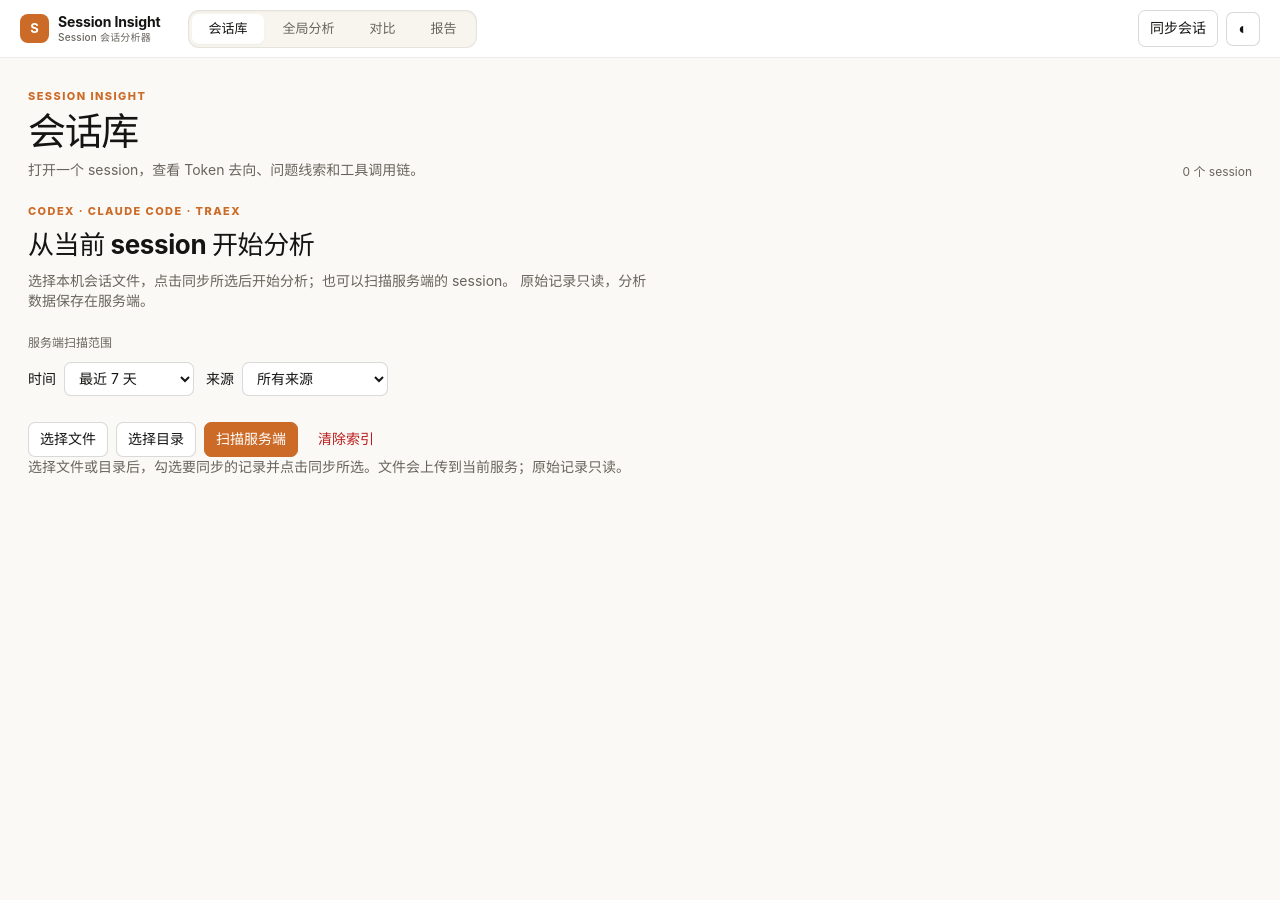
Test: analysis workflow › scans the selected range and retains skipped-file feedback after the first import
Expected: the heading "从当前 session 开始分析" is shown, [28,229,314,260]
Select "最近 1 天" in the dropdown named "扫描时间范围" at (129, 379), box [64,362,194,396]
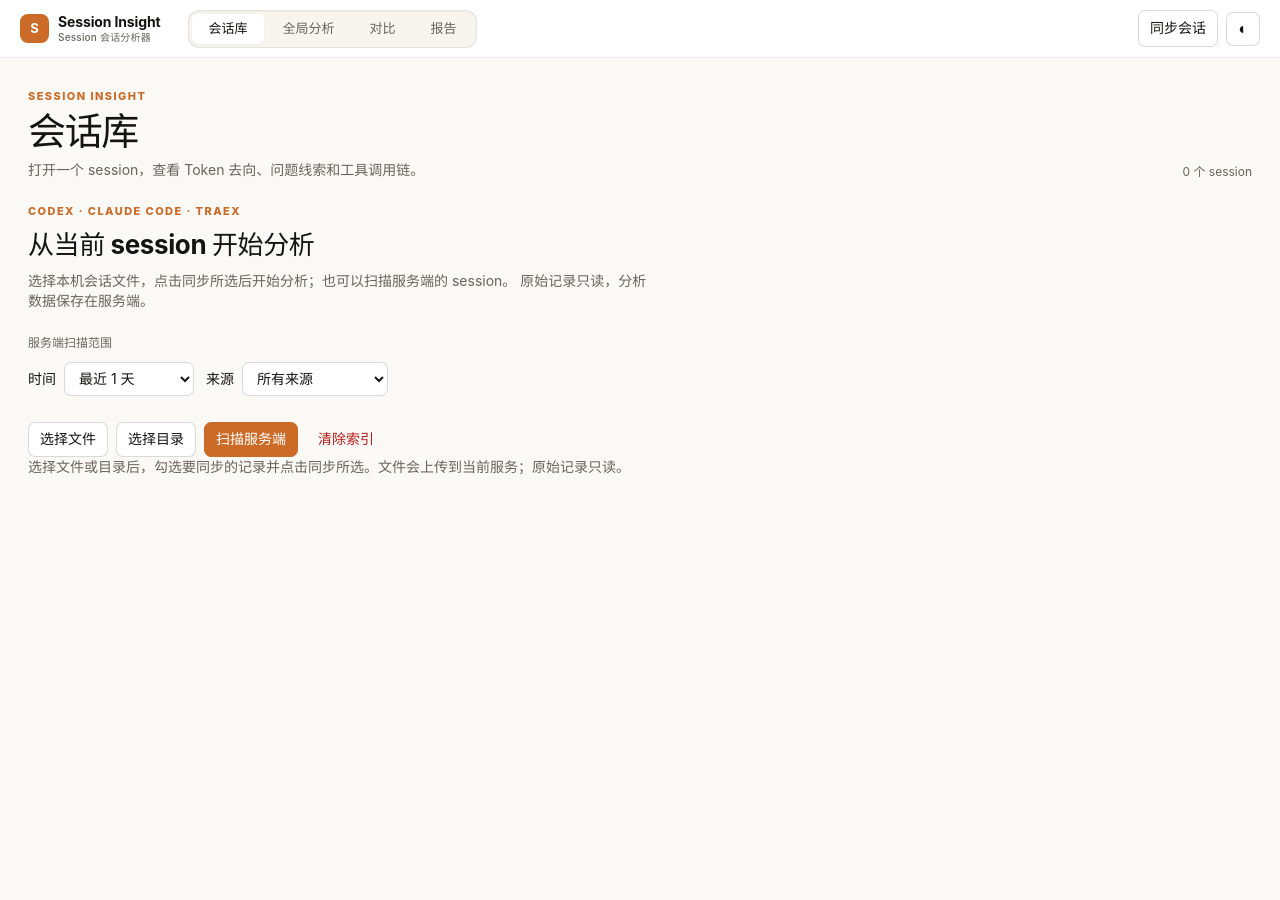
Select "仅 Codex" in the dropdown named "扫描来源" at (315, 379), box [242,362,388,396]
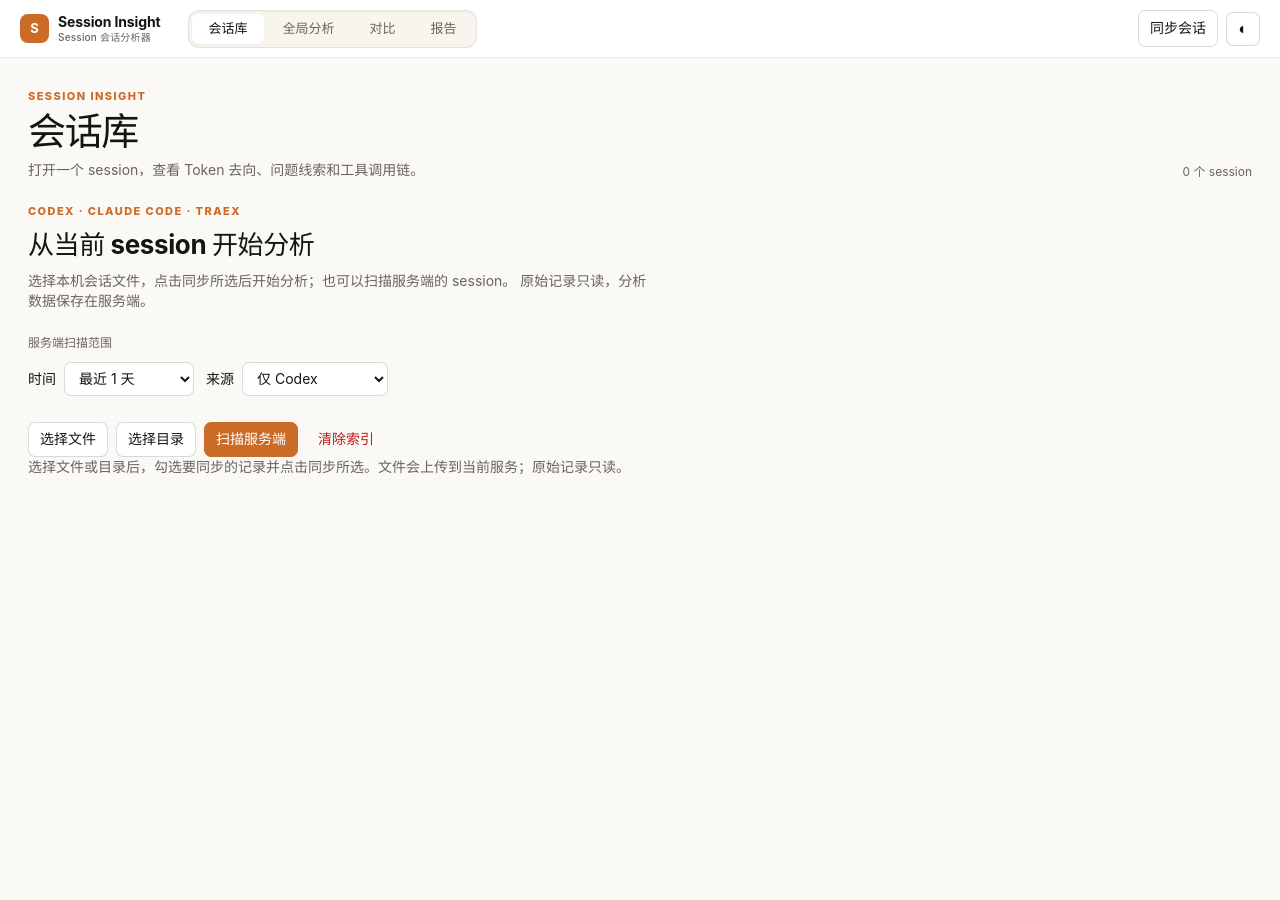
Click the button with test id "scan-local" at (251, 439), box [204,422,298,457]
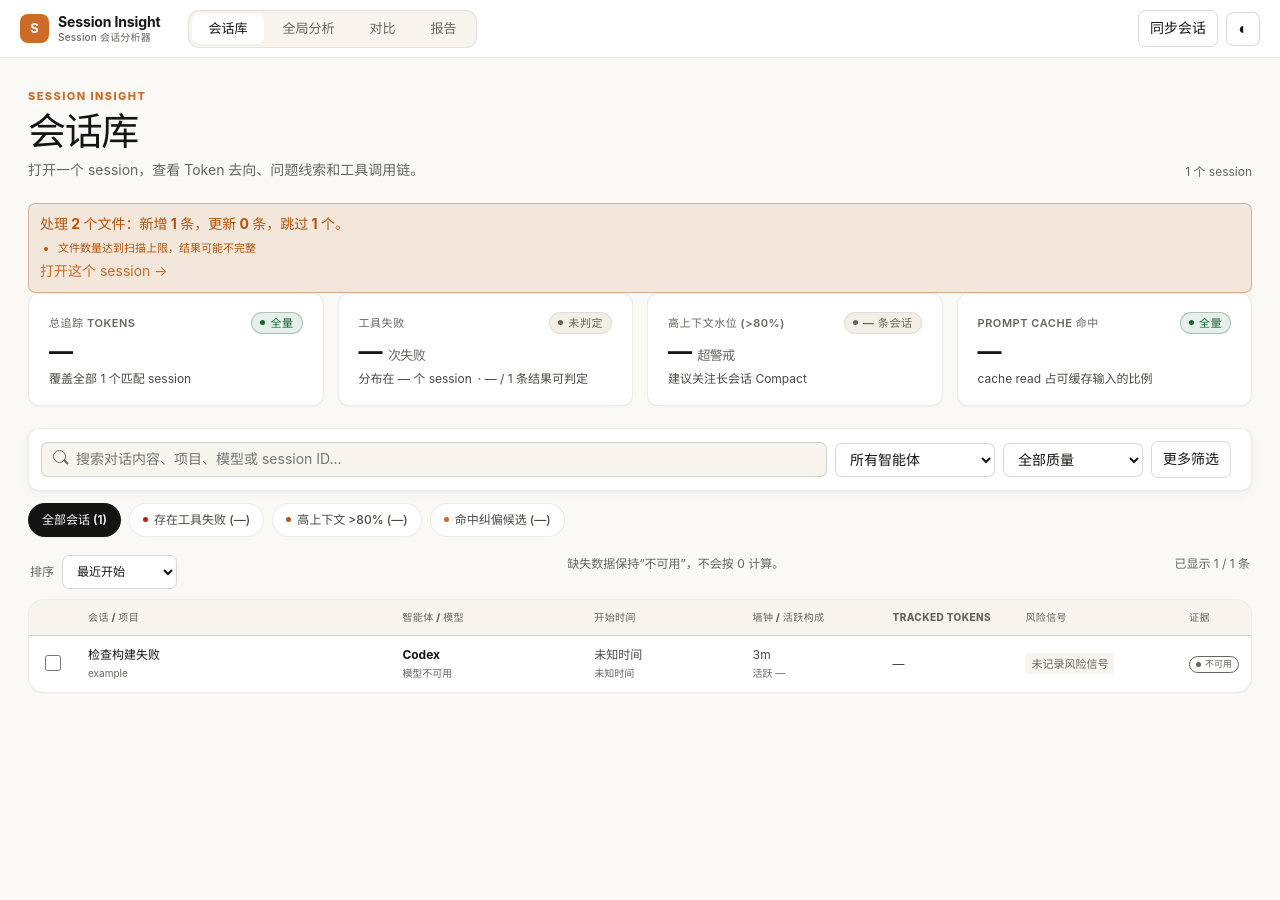
Expected: the link with test id "session-example" is shown, [88,648,160,679]
Expected: the message with test id "import-result" shows "跳过 1 个", [28,203,1252,293]
Expected: the message with test id "import-result" shows "文件数量达到扫描上限", [58,241,256,255]
